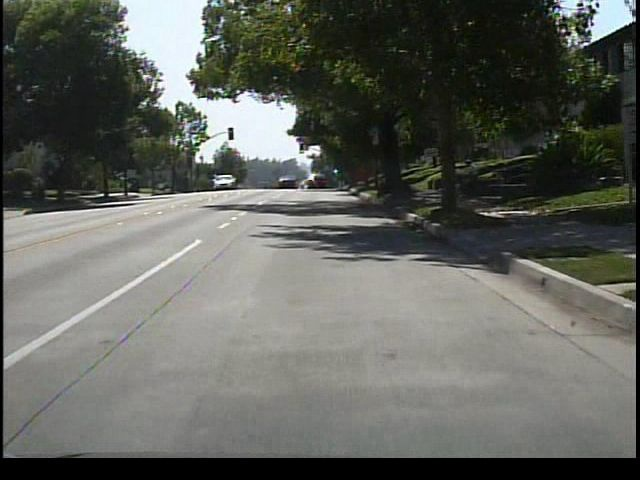person: (459, 155, 484, 198)
